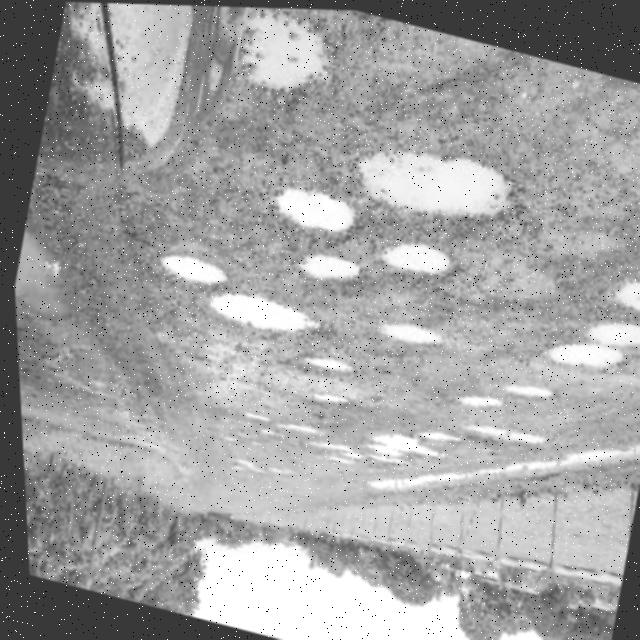Pothole: (344, 129, 523, 243), (228, 5, 343, 108), (202, 287, 325, 346), (268, 181, 360, 246), (537, 326, 626, 381), (375, 235, 451, 286), (290, 242, 364, 294), (154, 250, 231, 295), (459, 418, 542, 459), (583, 307, 640, 356), (364, 429, 441, 465), (375, 313, 442, 353), (606, 245, 640, 319), (287, 348, 355, 382), (448, 388, 502, 417), (500, 377, 553, 405), (409, 425, 460, 450), (304, 389, 349, 413)
